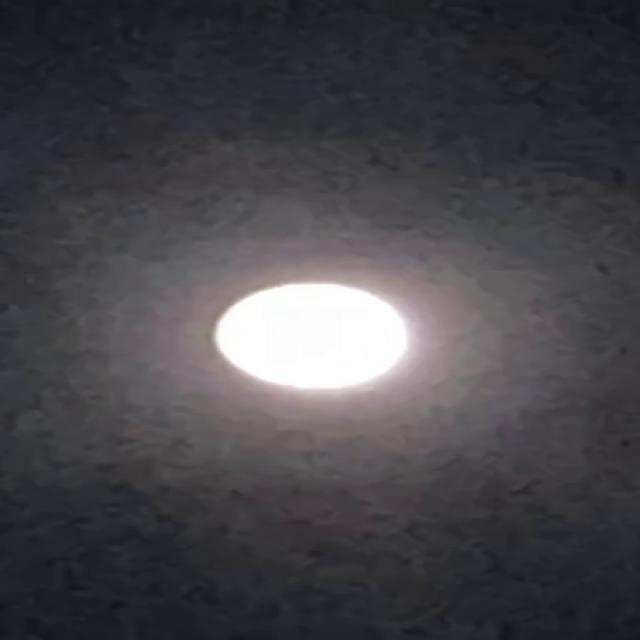moon: (130, 282, 357, 403)
